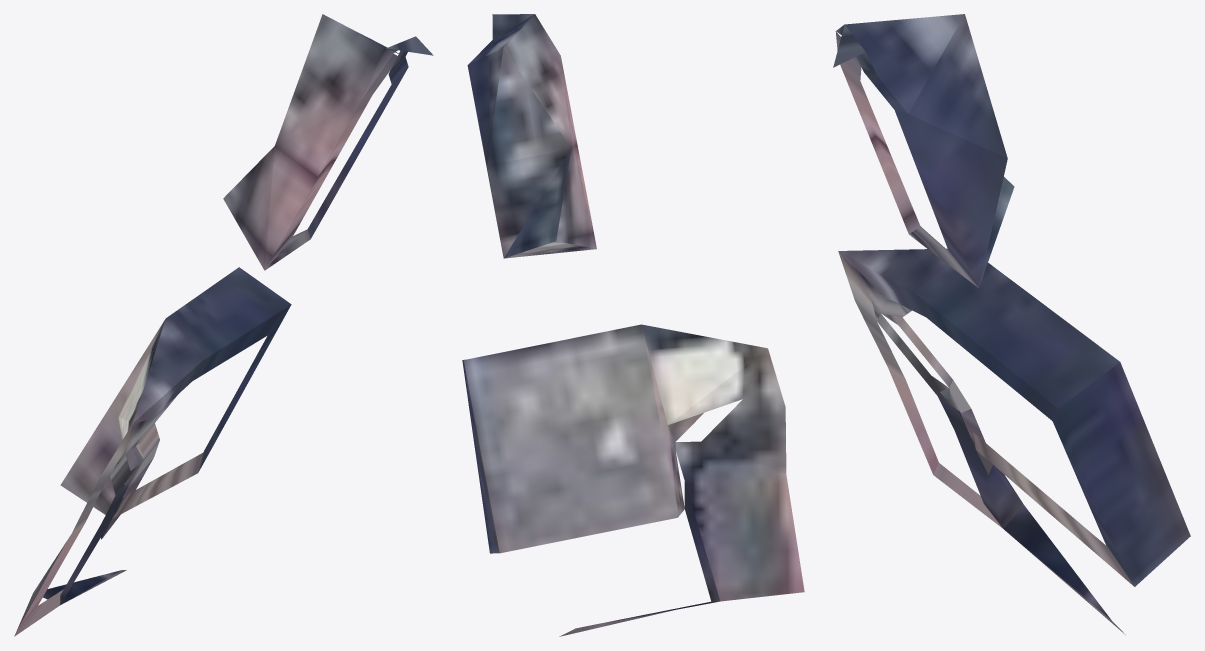
3 renders of one model, left to right at view 1: azimuth 30°, elevation 25°; view 2: azimuth 150°, elevation 25°; view 3: azimuth 270°, elevation 25°, orthographic. The views are drawn at different scales.
Bounding box in the file's own units: 29.14 × 41.54 × 19.26.
1 material, 1 textured.
